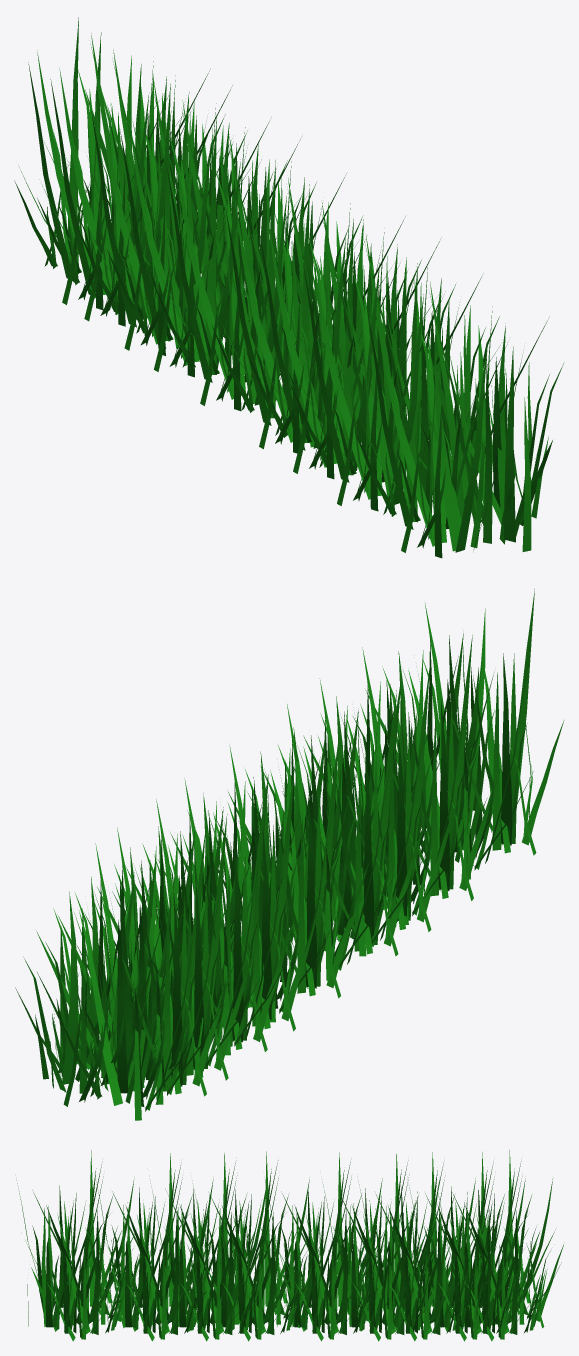
Rendered from grass.fbx.
The picture shows the model from 3 angles, top to bottom: view 1: azimuth 30°, elevation 25°; view 2: azimuth 150°, elevation 25°; view 3: azimuth 270°, elevation 25°; orthographic projection. The views are drawn at different scales.
Visible parts, largest first — view 1: grass.008, grass.006, grass.003, grass.007, grass.005, grass.004, grass.142, grass.001, grass.002; view 2: grass.142, grass.008, grass.002, grass.005, grass.007, grass.006, grass.003, grass.004, grass.001; view 3: grass.008, grass.003, grass.006, grass.005, grass.142, grass.007, grass.004, grass.001, grass.002.
Boxes of the visible parts, x1,y1,x2,y2 form: grass.008: (354,263,563,558); grass.006: (289,219,499,511); grass.003: (153,117,363,411); grass.007: (245,184,455,479); grass.005: (211,160,421,453); grass.004: (106,83,316,377); grass.142: (14,17,225,310); grass.001: (77,64,287,355); grass.002: (37,32,247,326); grass.142: (15,830,234,1120); grass.008: (348,589,564,879); grass.002: (37,814,256,1104); grass.005: (214,690,426,980); grass.007: (238,666,459,956); grass.006: (283,635,501,924); grass.003: (157,733,368,1022); grass.004: (105,765,324,1055); grass.001: (76,786,295,1067); grass.008: (16,1150,142,1341); grass.003: (265,1152,393,1341); grass.006: (96,1153,223,1341); grass.005: (192,1151,319,1341); grass.142: (435,1150,563,1341); grass.007: (150,1153,276,1341); grass.004: (322,1154,449,1341); grass.001: (358,1152,481,1341); grass.002: (407,1152,536,1341).
Bounding box in the file's own units: 8.56 × 10.87 × 35.8.
